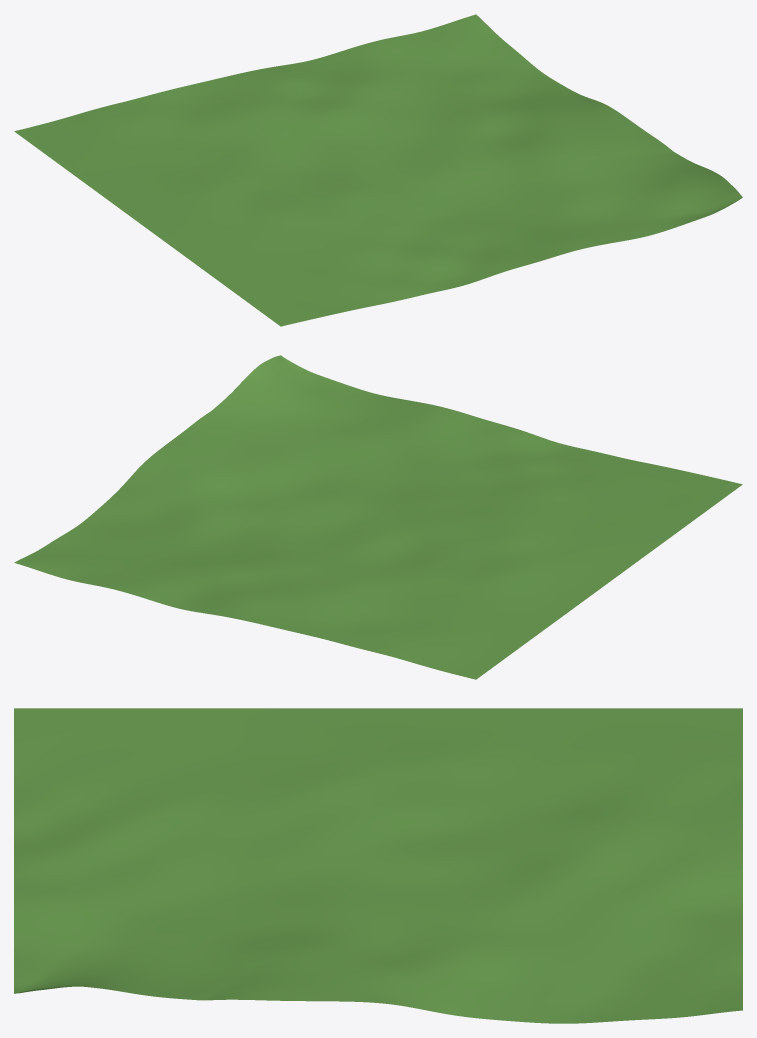
The model's file is SM_Terrain_00_02.fbx.
3 views of the same model, one above another, from view 1: azimuth 30°, elevation 25°; view 2: azimuth 150°, elevation 25°; view 3: azimuth 270°, elevation 25° (orthographic). The views are drawn at different scales.
Visible parts, largest first — view 1: SM_Terrain_00_02; view 2: SM_Terrain_00_02; view 3: SM_Terrain_00_02.
Boxes of the visible parts, <box> form: SM_Terrain_00_02: <box>14,14,742,326</box>; SM_Terrain_00_02: <box>14,355,742,679</box>; SM_Terrain_00_02: <box>14,708,742,1023</box>.
Size of the model in its own units: 384 by 21.93 by 384.
